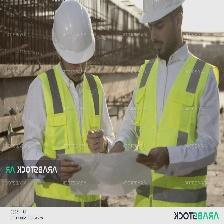Person: (110, 1, 221, 207), (20, 1, 114, 207)
helmet: (50, 1, 98, 65), (138, 1, 186, 28)
vest: (133, 51, 221, 206), (32, 62, 104, 208)
